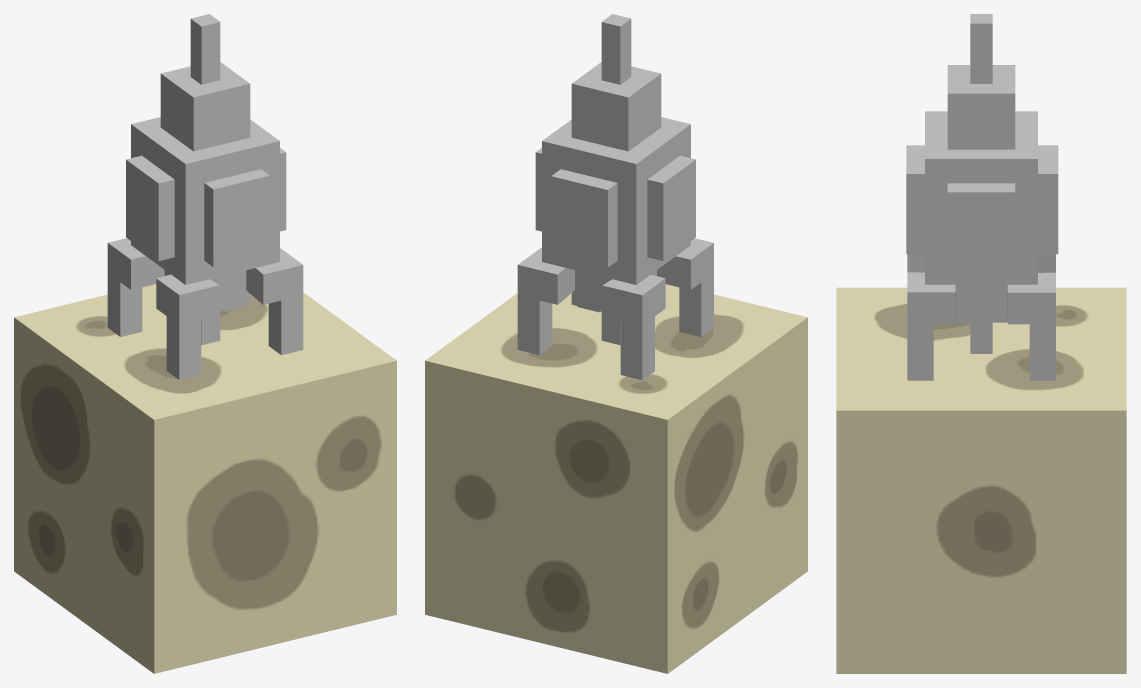
The model's file is GoalObj.obj.
3 renders of one model, left to right at view 1: azimuth 30°, elevation 25°; view 2: azimuth 150°, elevation 25°; view 3: azimuth 270°, elevation 25°, orthographic. The views are drawn at different scales.
Parts seen in each view (by area): view 1: Cube.001, 立方体.001; view 2: Cube.001, 立方体.001; view 3: Cube.001, 立方体.001.
Part boxes in pixels (bbox=[...]): Cube.001: bbox=[14, 284, 396, 673]; 立方体.001: bbox=[107, 14, 303, 379]; Cube.001: bbox=[425, 284, 807, 673]; 立方体.001: bbox=[517, 14, 713, 380]; Cube.001: bbox=[836, 287, 1126, 673]; 立方体.001: bbox=[906, 14, 1058, 380].
Size of the model in its own units: 1 by 2.25 by 1.
